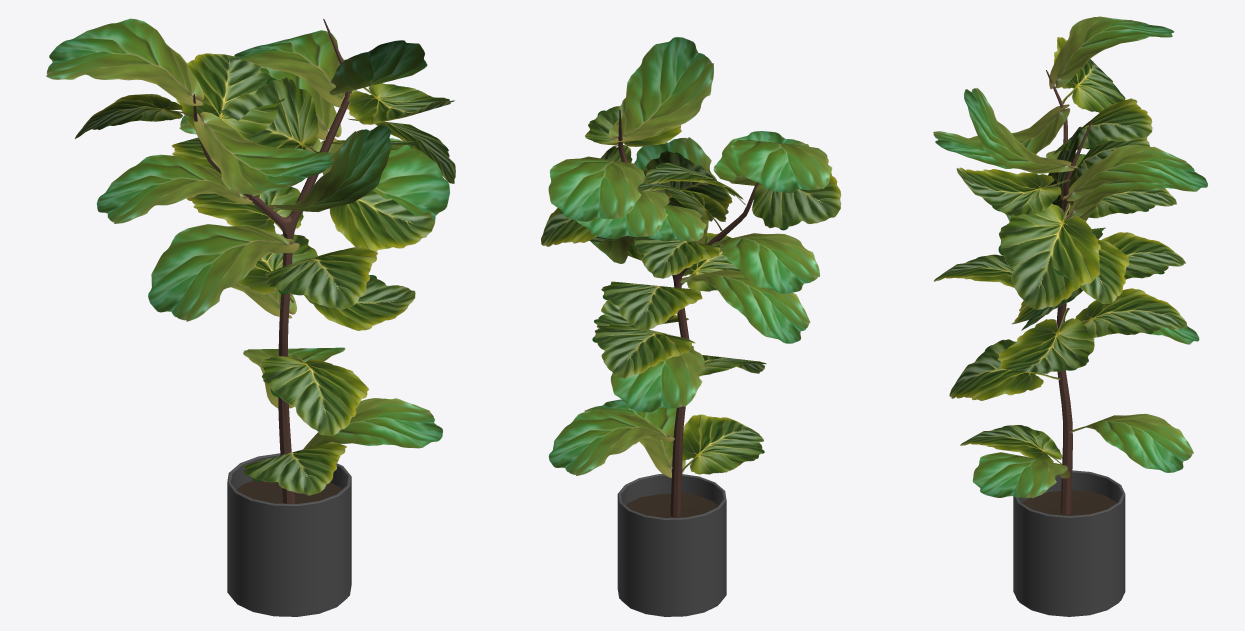
The model's file is Fig Leaf Plant w_ Pot.glb.
3 renders of one model, left to right at view 1: azimuth 30°, elevation 25°; view 2: azimuth 150°, elevation 25°; view 3: azimuth 270°, elevation 25°, orthographic. The views are drawn at different scales.
Parts seen in each view (by area): view 1: Fig Leaf Plant w/ Pot.001; view 2: Fig Leaf Plant w/ Pot.001; view 3: Fig Leaf Plant w/ Pot.001.
Part boxes in pixels (<box>): Fig Leaf Plant w/ Pot.001: <box>46,18,455,616</box>; Fig Leaf Plant w/ Pot.001: <box>541,37,841,616</box>; Fig Leaf Plant w/ Pot.001: <box>933,16,1207,616</box>.
Bounding box in the file's own units: 0.9032 × 1.27 × 0.7058.
Materials: 3 (2 with a texture image).
